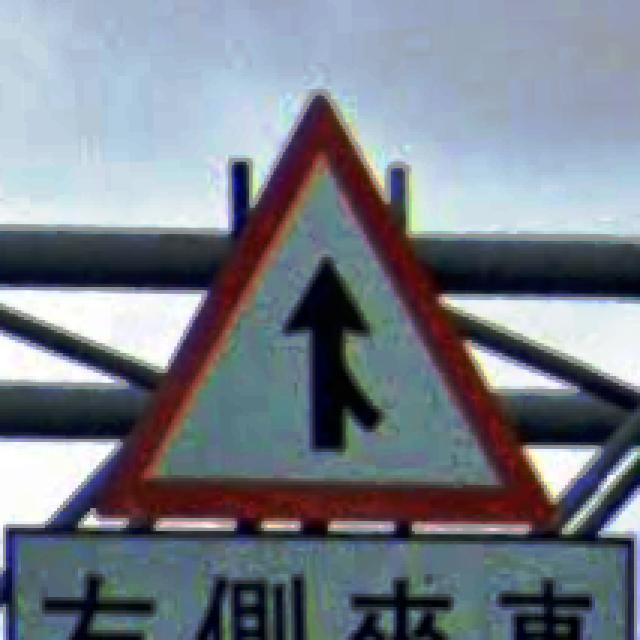rightmerge: (102, 98, 551, 520)
